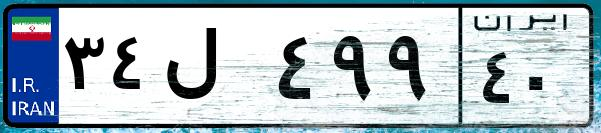0: (525, 38, 570, 115)
3: (57, 26, 110, 100)
4: (270, 28, 330, 110), (475, 38, 525, 113), (110, 28, 158, 98)
9: (385, 28, 445, 110), (330, 28, 385, 110)
ل: (158, 20, 270, 120)
